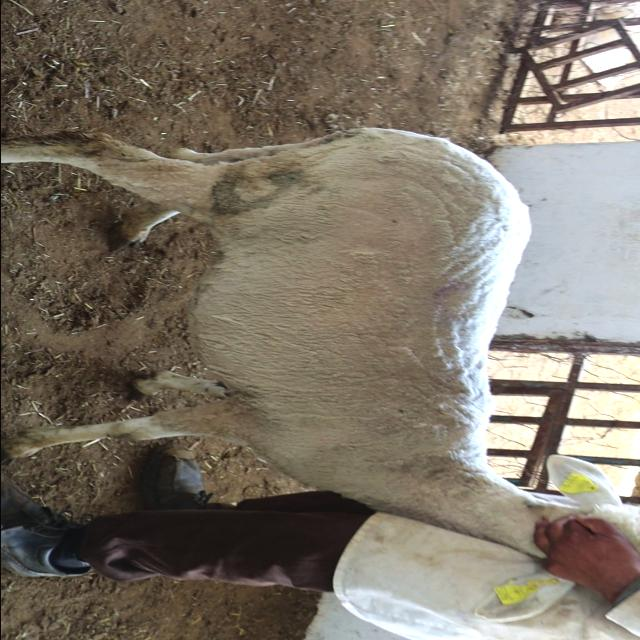Score_4: (1, 127, 640, 558)
